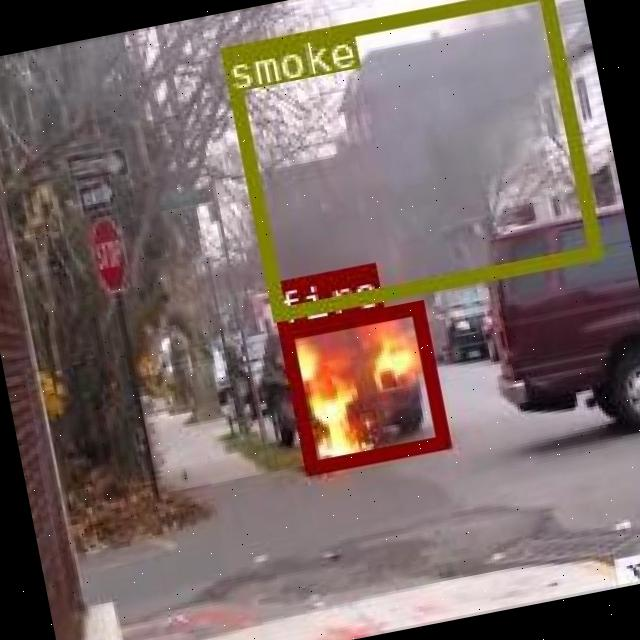fire: (275, 298, 449, 472)
smoke: (219, 0, 599, 319)
